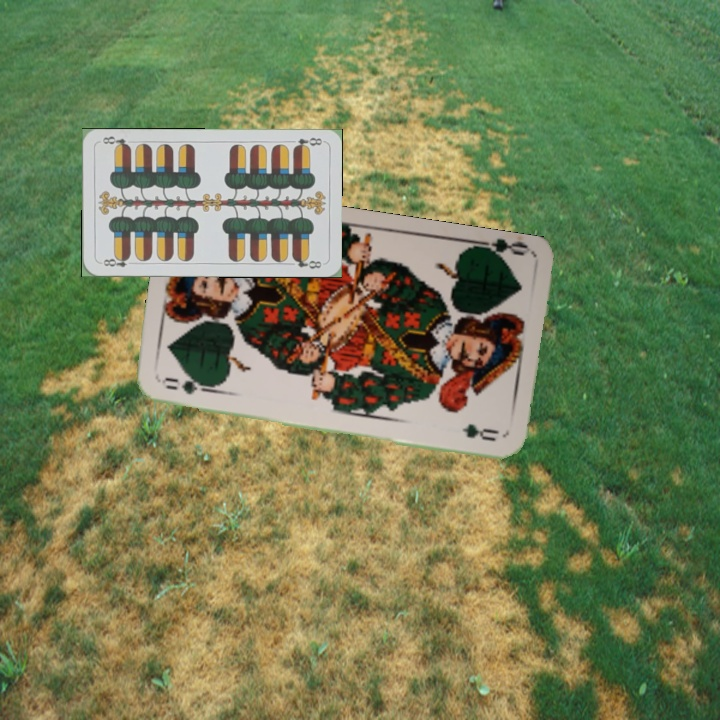E8: (96, 252, 137, 269), (289, 133, 324, 152)
GO: (472, 236, 532, 265), (158, 374, 217, 397)
